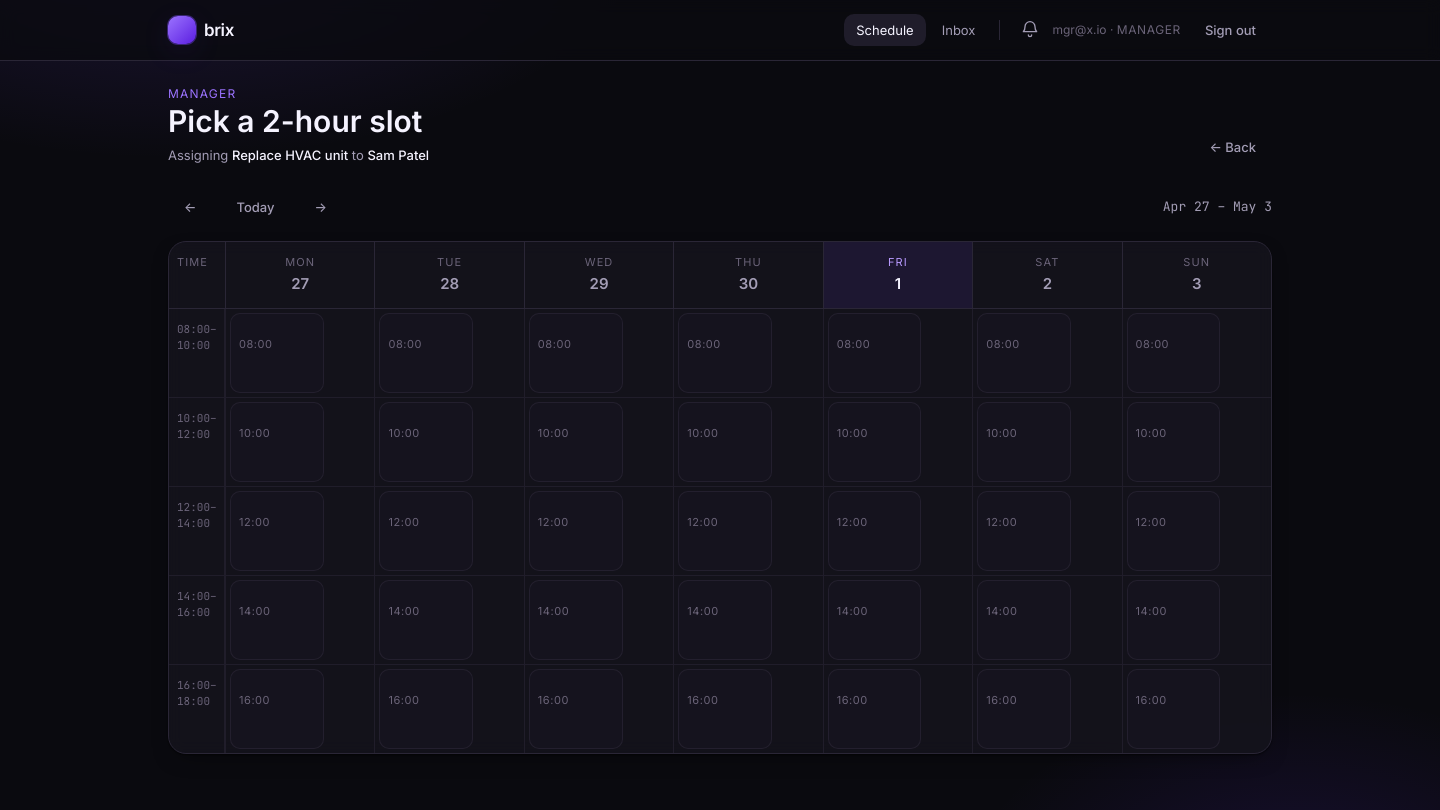
it: ManagerSchedule › shows confirm modal when an empty slot is clicked
Expected: the text "Mon" is shown, [285,254,315,268]
What coordinates should you click on to do the following:
click the 1st button "08:00"
I would click on:
 (277, 352)
Its box is [230,312,324,392].
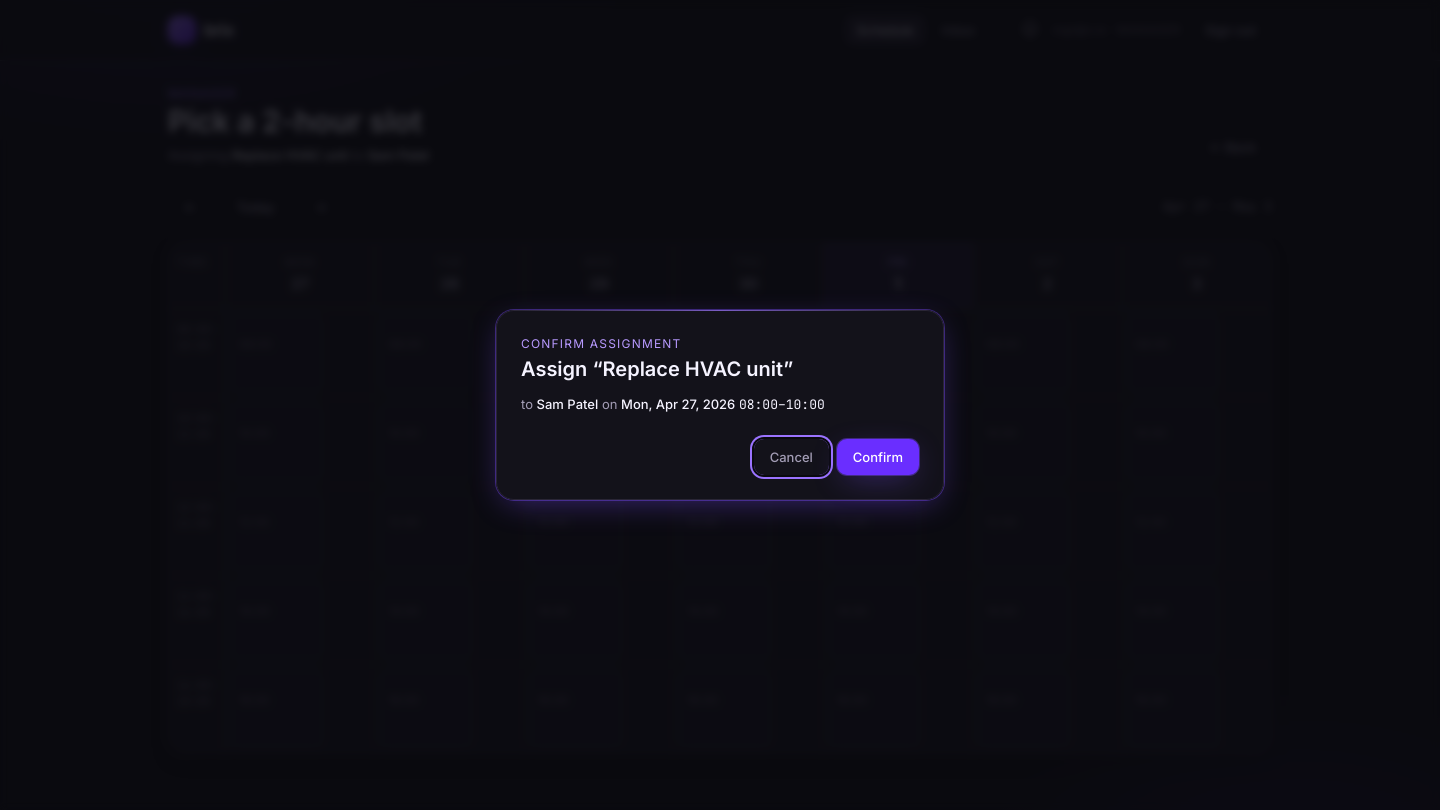
Expected: the dialog is shown
Expected: the heading "Assign “Replace HVAC unit”" is shown, [521,357,793,381]
Expected: the text "Sam Patel" is shown, [537,396,598,412]
